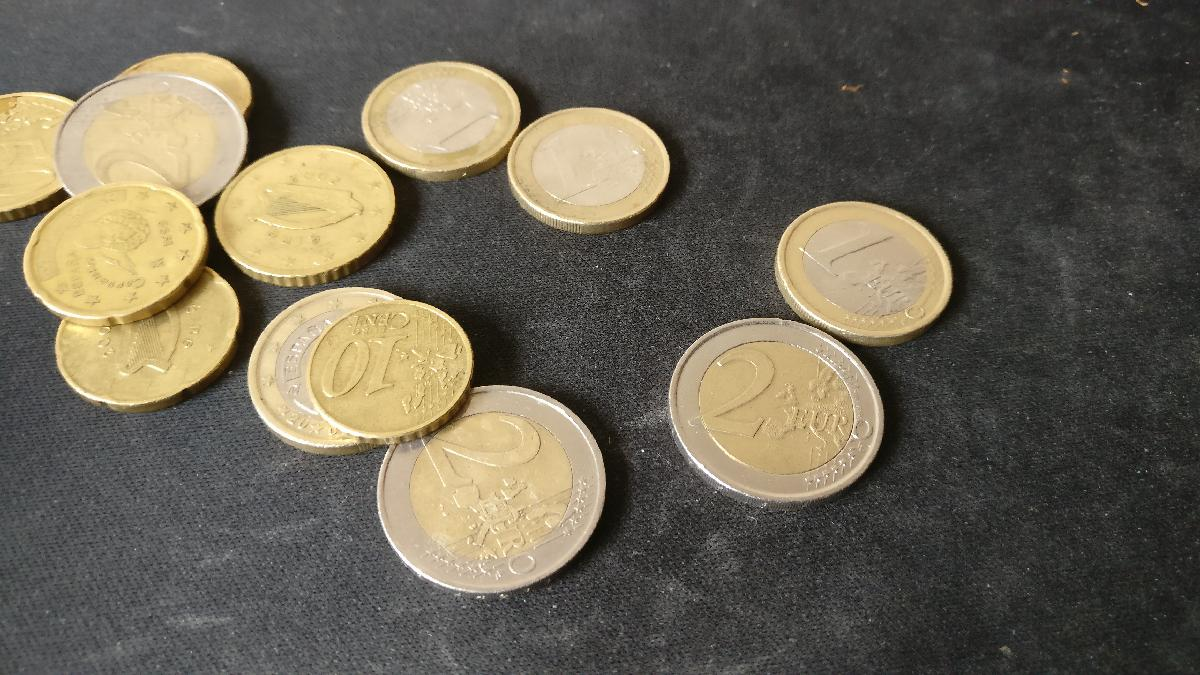Fifty Cent: (214, 136, 406, 287), (1, 85, 92, 198)
One Euro: (254, 288, 433, 457), (770, 198, 956, 348), (508, 106, 678, 232), (358, 62, 521, 177)
Ten Cent: (314, 298, 473, 443)
Twenty Cent: (52, 265, 242, 409), (27, 186, 212, 323)
Two Euro: (377, 382, 601, 599), (669, 316, 880, 499), (60, 76, 248, 218)
